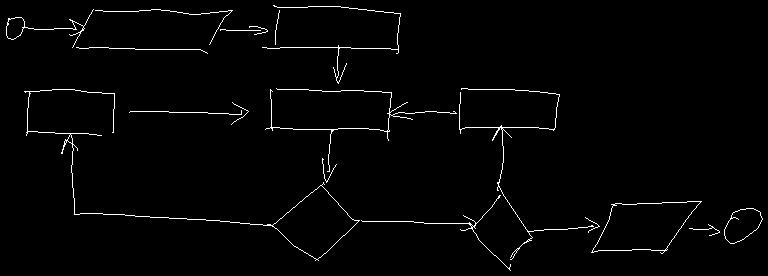arrow: (61, 133, 272, 225), (129, 102, 248, 124), (361, 215, 475, 230), (492, 125, 511, 190), (387, 102, 456, 119), (528, 217, 599, 232), (22, 19, 84, 35), (322, 129, 336, 182), (333, 45, 346, 83), (220, 26, 267, 34), (689, 224, 719, 235)
connection: (724, 208, 762, 243), (6, 17, 24, 39)
data: (72, 9, 232, 53), (591, 201, 701, 253)
decision: (271, 182, 359, 260), (469, 182, 532, 270)
process: (262, 5, 400, 53), (265, 88, 391, 140), (459, 88, 559, 133), (24, 89, 114, 135)
